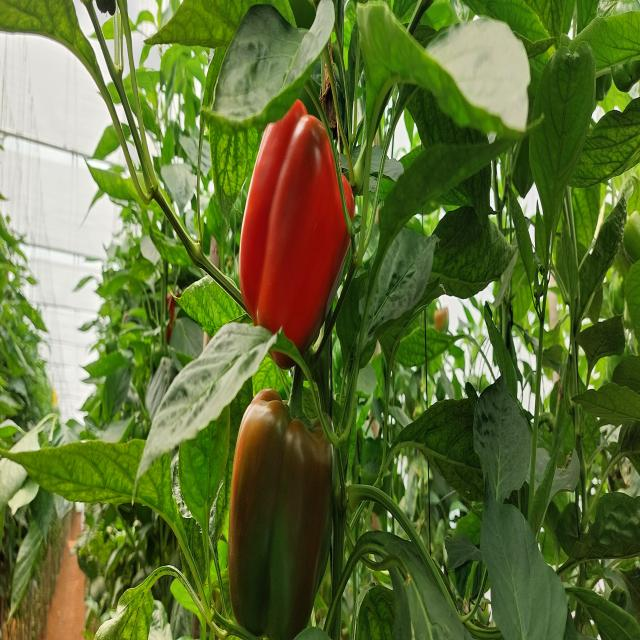BrownishRed--Can-be-Harvested: (232, 376, 335, 640)
Red-Ready-to-Harvest: (232, 40, 358, 342)
